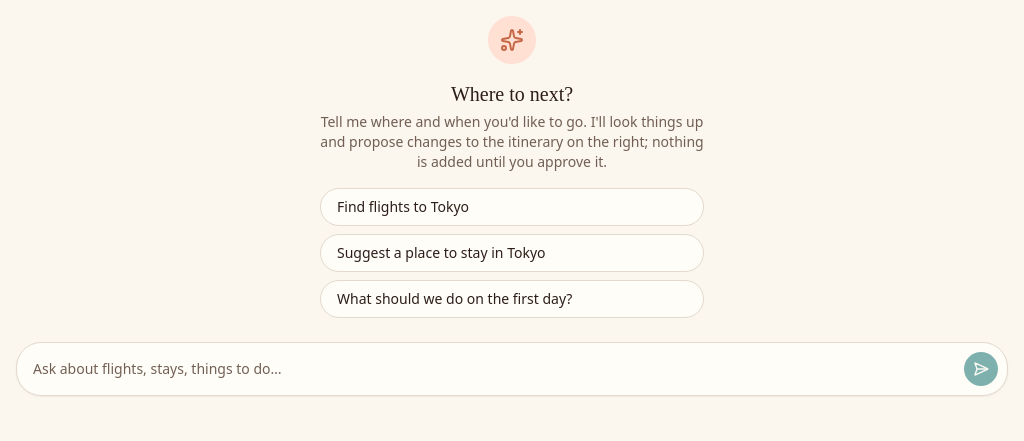
ChatPanel › restores the text and shows the reason when the request fails
The image size is (1024, 441).
Check: the list named "Suggestions" is shown, box [320,188,704,318]
Type "Hello?" into the text box named "Message" at (490, 369), box [25,351,955,387]
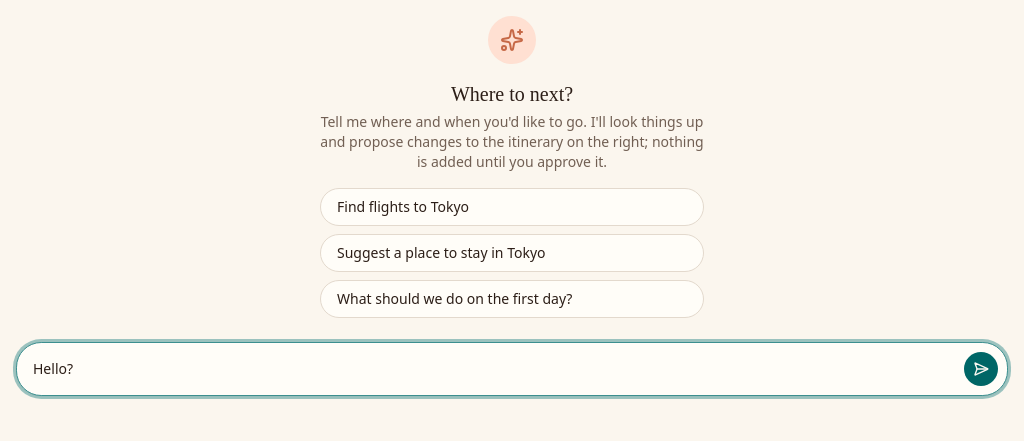
Click the button named "Send message" at (981, 369), box [963,351,999,387]
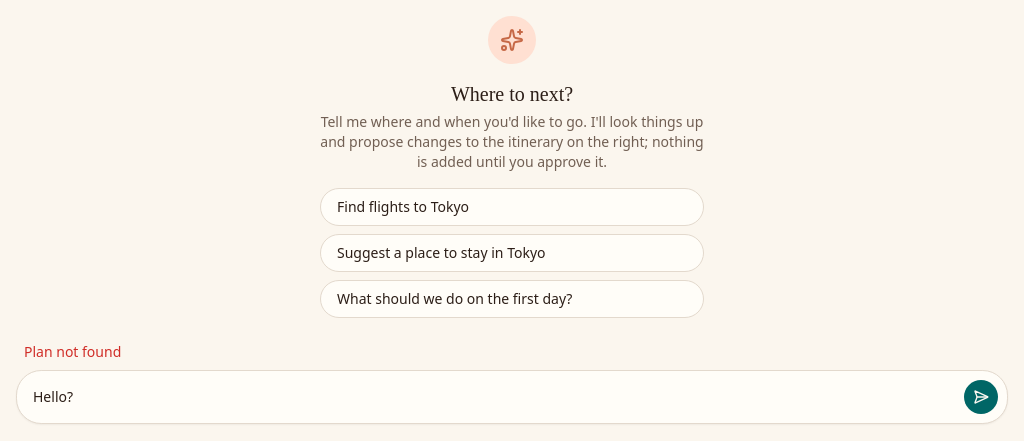
Check: the message reads "Plan not found", box [24,342,121,361]
